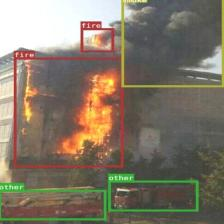fire: (13, 57, 123, 167), (80, 28, 113, 52)
smoke: (121, 0, 224, 87)
